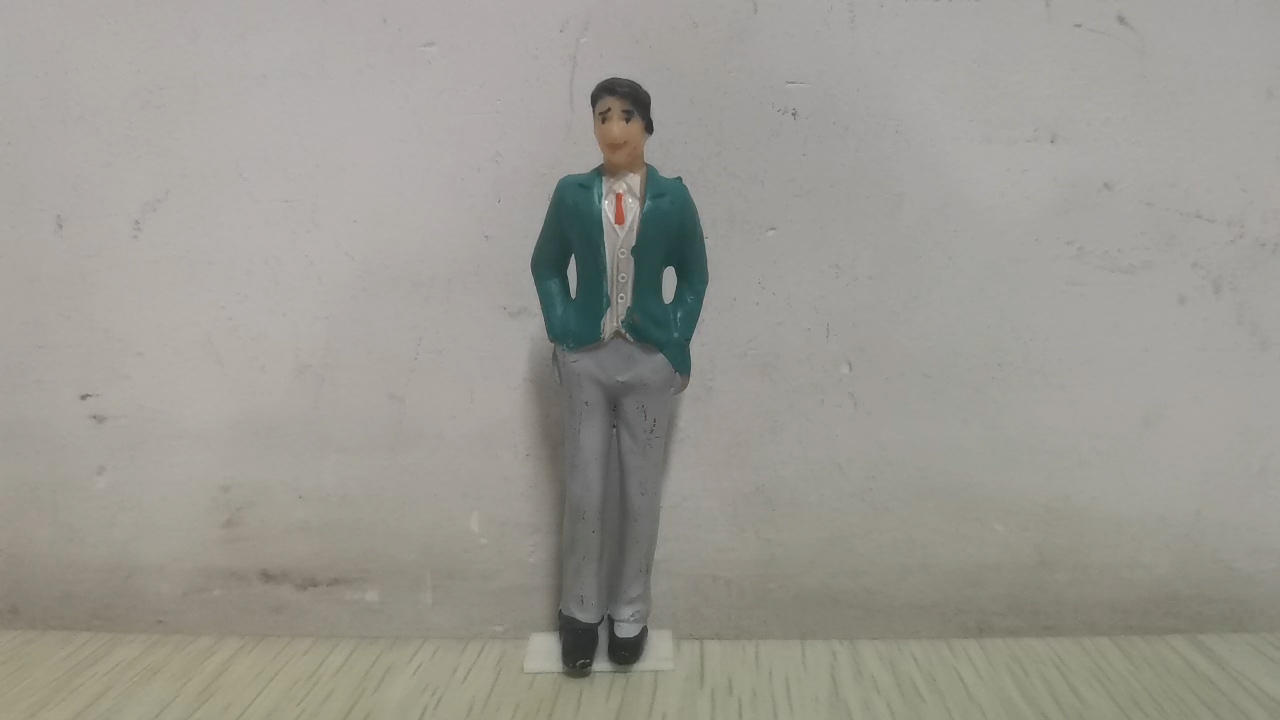person: (527, 74, 713, 674)
